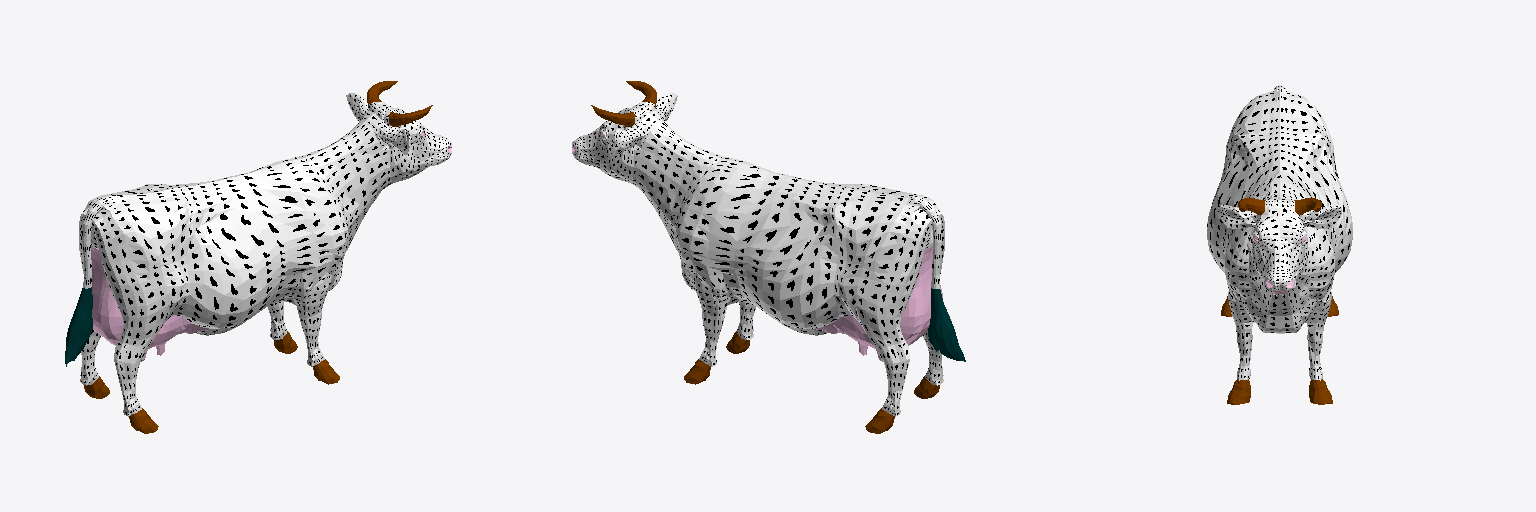
3 renders of one model, left to right at view 1: azimuth 30°, elevation 25°; view 2: azimuth 150°, elevation 25°; view 3: azimuth 270°, elevation 25°, orthographic.
Visible parts, largest first — view 1: cow; view 2: cow; view 3: cow.
Boxes of the visible parts, x1,y1,x2,y2 form: cow: [65, 81, 451, 433]; cow: [572, 81, 965, 433]; cow: [1207, 85, 1352, 404].
Bounding box in the file's own units: 10.44 × 6.4 × 3.4.
7 materials, 3 textured.